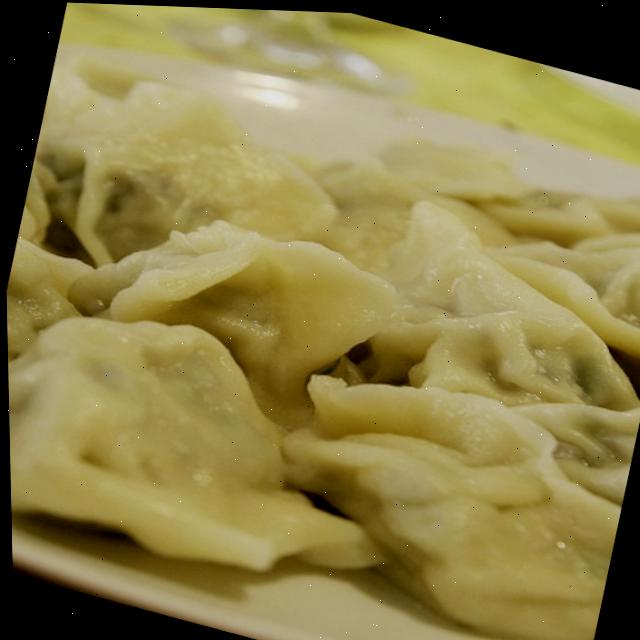带馅早点: (0, 2, 640, 640)
